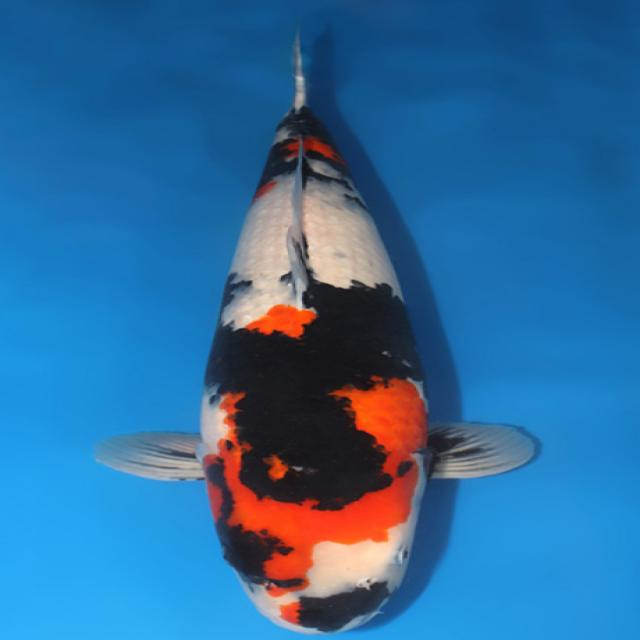Showa: (93, 23, 540, 635)
